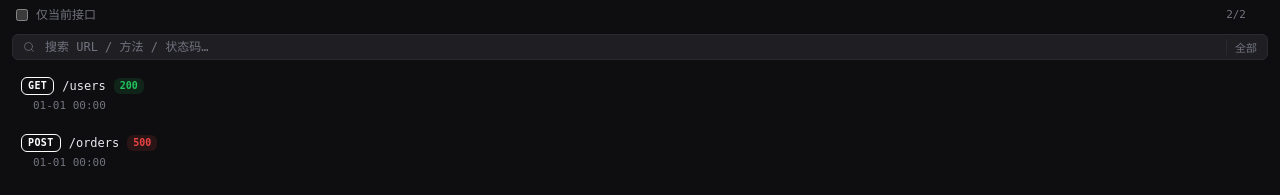
Test: HistoryPanel › 状态筛选在 全部/2xx/4xx5xx 间循环
What coordinates should you click on to do the following:
click the button with class "hp-status-filter"
I would click on:
 (1242, 47)
Its box is [1226, 39, 1257, 55].
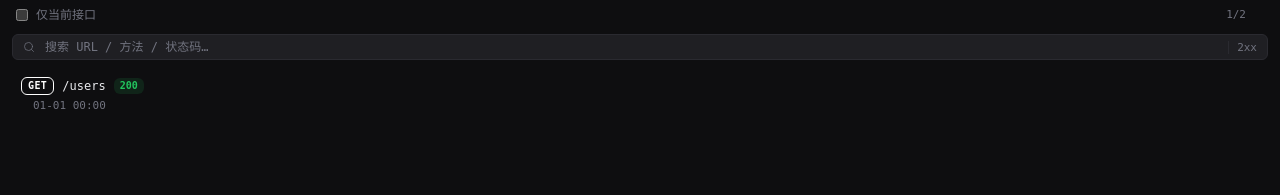
Expected: the button with class "hp-status-filter" reads "2xx"
Expected: the number of buttons with class "hp-row" is 1, [8, 68, 1272, 121]
What coordinates should you click on to do the following:
click the button with class "hp-status-filter"
I would click on:
 (1243, 47)
Its box is [1228, 40, 1257, 54].
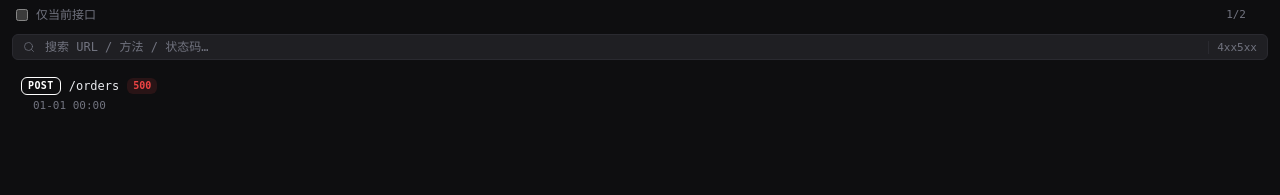
Expected: the number of buttons with class "hp-row" is 1, [8, 68, 1272, 121]
Expected: the button with class "hp-status-filter" reads "4xx5xx"
What coordinates should you click on to do the following:
click the button with class "hp-status-filter"
I would click on:
 (1233, 47)
Its box is [1208, 40, 1257, 54].
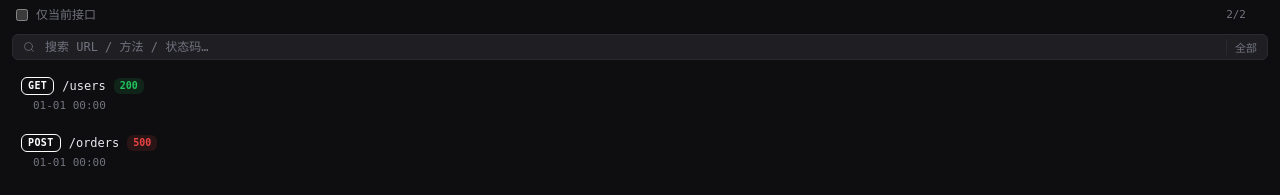
Expected: the button with class "hp-status-filter" reads "全部", [1226, 39, 1257, 55]
Expected: the number of buttons with class "hp-row" is 2, [8, 68, 1272, 121]; [8, 125, 1272, 178]
